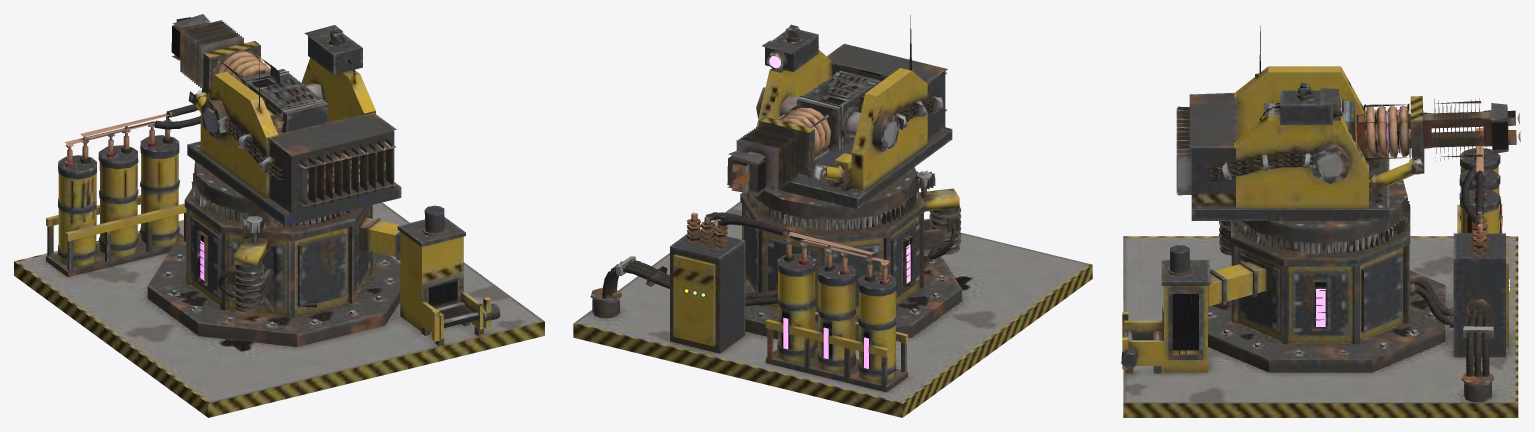
The model's file is torre_defesa.glb.
3 views of the same model, side by side, from view 1: azimuth 30°, elevation 25°; view 2: azimuth 150°, elevation 25°; view 3: azimuth 270°, elevation 25° (orthographic). The views are drawn at different scales.
Visible parts, largest first — view 1: torre_defesa_base, torre_defesa_giro, torre_defesa_canhao; view 2: torre_defesa_base, torre_defesa_giro, torre_defesa_canhao, faixa_carga; view 3: torre_defesa_base, torre_defesa_giro, torre_defesa_canhao, faixa_carga.
Part boxes in pixels (bbox=[...]): torre_defesa_base: bbox=[14, 104, 544, 417]; torre_defesa_giro: bbox=[187, 25, 401, 227]; torre_defesa_canhao: bbox=[171, 14, 328, 133]; torre_defesa_base: bbox=[573, 170, 1092, 417]; torre_defesa_giro: bbox=[747, 15, 952, 231]; torre_defesa_canhao: bbox=[727, 70, 880, 196]; faixa_carga: bbox=[783, 244, 910, 368]; torre_defesa_base: bbox=[1121, 127, 1518, 417]; torre_defesa_giro: bbox=[1176, 26, 1422, 254]; torre_defesa_canhao: bbox=[1263, 96, 1520, 173]; faixa_carga: bbox=[1316, 206, 1502, 326].
Bounding box in the file's own units: 1.96 × 1.62 × 1.98.
Materials: 5 (1 with a texture image).
